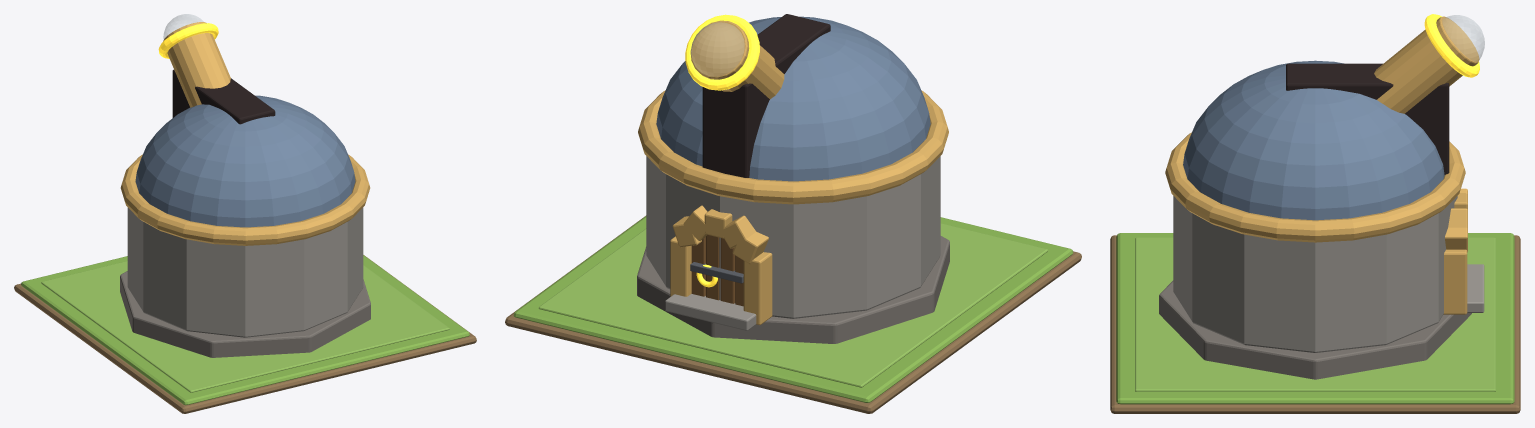
Rendered from star_laboratory_lv2.glb.
The picture shows the model from 3 angles, left to right: view 1: azimuth 30°, elevation 25°; view 2: azimuth 150°, elevation 25°; view 3: azimuth 270°, elevation 25°; orthographic projection. The views are drawn at different scales.
Visible parts, largest first — view 1: SL_ObservatoryDome, SL_Drum, Base_Inner, Base_Grass, SL_Plinth, SL_DomeTrack, Base_Dirt, TelescopeTubeMain, SL_DomeSlitArch, TelescopeCollar; view 2: SL_Drum, SL_ObservatoryDome, Base_Inner, Base_Grass, SL_DomeTrack, SL_Plinth, SL_DomeSlitArch, Base_Dirt, TelescopeTubeMain, TelescopeLens, DoorStep, TelescopeCollar (+10 smaller); view 3: SL_Drum, SL_ObservatoryDome, Base_Inner, Base_Grass, SL_Plinth, SL_DomeTrack, Base_Dirt, TelescopeTubeMain, SL_DomeSlitArch, DoorPillar_1, TelescopeLens, TelescopeCollar (+2 smaller).
Part boxes in pixels (x1,y1,x2,y2): SL_ObservatoryDome: (135, 95, 355, 227); SL_Drum: (127, 207, 363, 337); Base_Inner: (41, 261, 449, 392); Base_Grass: (21, 255, 469, 405); SL_Plinth: (120, 271, 370, 357); SL_DomeTrack: (120, 154, 370, 245); Base_Dirt: (14, 255, 476, 413); TelescopeTubeMain: (163, 22, 230, 107); SL_DomeSlitArch: (172, 69, 275, 124); TelescopeCollar: (158, 23, 218, 58); SL_Drum: (646, 156, 940, 318); SL_ObservatoryDome: (656, 16, 930, 181); Base_Inner: (538, 223, 1048, 387); Base_Grass: (513, 216, 1073, 402); SL_DomeTrack: (638, 90, 948, 204); SL_Plinth: (637, 236, 949, 343); SL_DomeSlitArch: (702, 14, 830, 177); Base_Dirt: (505, 215, 1081, 413); TelescopeTubeMain: (690, 20, 784, 99); TelescopeLens: (691, 22, 744, 76); DoorStep: (665, 294, 756, 330); TelescopeCollar: (685, 14, 759, 90); SL_Drum: (1173, 196, 1457, 352); SL_ObservatoryDome: (1183, 60, 1444, 220); Base_Inner: (1135, 237, 1495, 391); Base_Grass: (1116, 233, 1514, 404); SL_Plinth: (1159, 280, 1471, 379); SL_DomeTrack: (1165, 132, 1465, 242); Base_Dirt: (1110, 235, 1520, 413); TelescopeTubeMain: (1374, 16, 1479, 113); SL_DomeSlitArch: (1286, 63, 1449, 174); DoorPillar_1: (1443, 249, 1467, 314); TelescopeLens: (1442, 15, 1484, 61); TelescopeCollar: (1424, 14, 1479, 77).
Size of the model in its own units: 2.76 by 2.31 by 2.76.
